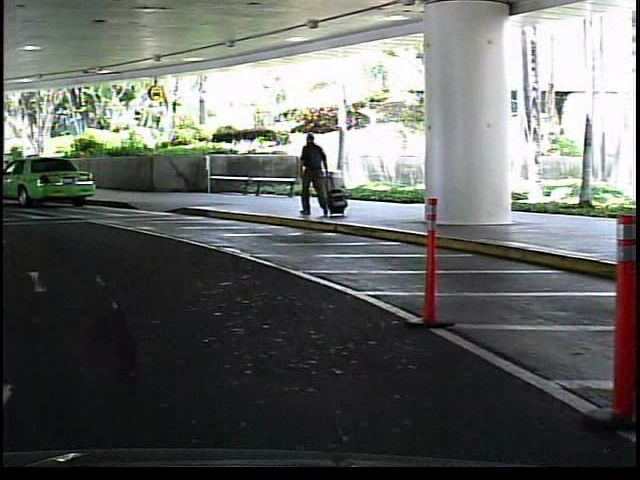person: (292, 125, 332, 223)
